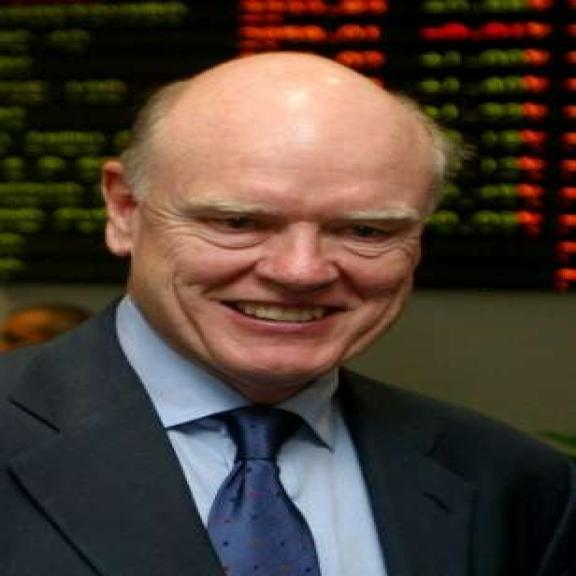face: (105, 108, 435, 382)
